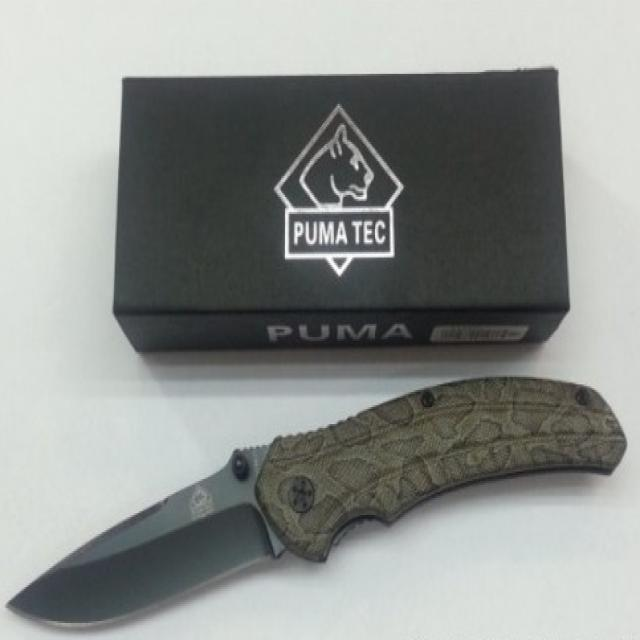knife: (3, 361, 638, 631)
